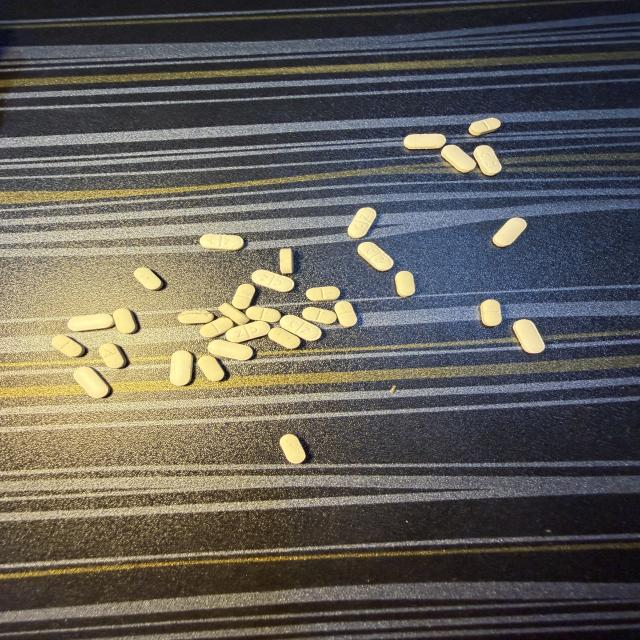pill: (74, 367, 110, 398), (280, 315, 321, 340), (513, 320, 544, 353), (358, 242, 393, 271), (493, 218, 526, 247), (225, 321, 270, 342), (252, 270, 294, 292), (442, 145, 476, 172), (208, 340, 253, 360), (347, 208, 376, 238), (474, 146, 502, 175), (170, 351, 193, 385), (68, 314, 114, 331), (280, 434, 306, 463), (52, 335, 85, 357), (268, 327, 300, 349), (200, 234, 244, 250), (99, 343, 126, 368), (134, 267, 163, 290), (200, 317, 233, 337), (198, 356, 224, 381), (404, 134, 446, 149), (219, 303, 249, 324), (394, 270, 416, 298), (334, 301, 357, 327), (302, 307, 336, 324), (113, 309, 137, 333), (245, 307, 281, 323), (232, 284, 255, 309), (480, 300, 502, 326), (469, 118, 501, 135), (178, 310, 214, 324), (306, 287, 340, 301), (280, 248, 293, 274), (389, 385, 396, 393)
